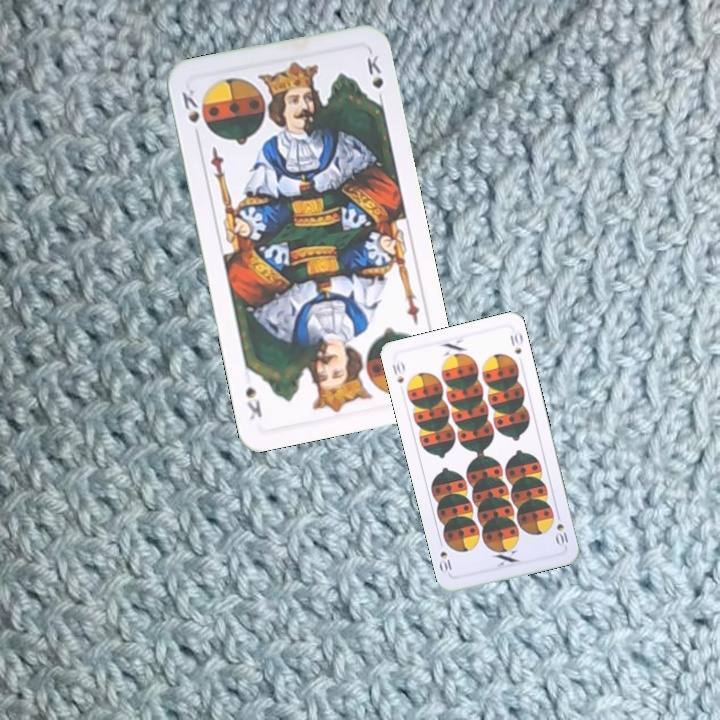S10: (552, 509, 571, 549), (388, 357, 407, 386)
SK: (178, 85, 202, 126)
